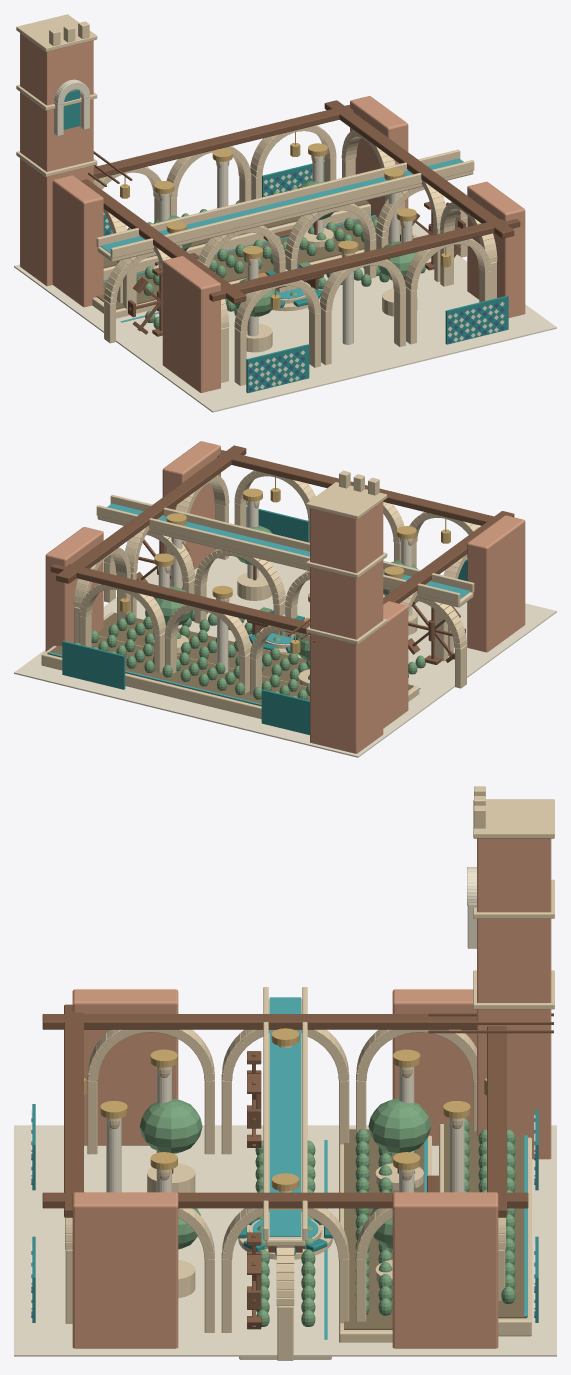
Rendered from living-places.glb.
3 renders of one model, top to bottom at view 1: azimuth 30°, elevation 25°; view 2: azimuth 150°, elevation 25°; view 3: azimuth 270°, elevation 25°, orthographic. The views are drawn at different scales.
Visible parts, largest first — view 1: Riad_Limewashed_ochre, Riad_Ivory_plaster, Riad_Carved_sandstone, Aqueduct_Carved_sandstone, Riad_Carved_cedar, Riad_Glazed_teal_zellij, UnionWorkshop_Ivory_plaster, Terraces_Living_leaves, Terraces_Cultivated_soil, Terraces_Carved_sandstone, UnionWorkshop_Hammered_brass, Aqueduct_Spring_water (+4 smaller); view 2: Riad_Limewashed_ochre, Riad_Carved_sandstone, Riad_Ivory_plaster, Aqueduct_Carved_sandstone, Riad_Carved_cedar, Terraces_Living_leaves, Riad_Glazed_teal_zellij, Terraces_Cultivated_soil, Terraces_Carved_sandstone, UnionWorkshop_Ivory_plaster, Aqueduct_Carved_cedar, UnionWorkshop_Hammered_brass (+4 smaller); view 3: Riad_Limewashed_ochre, Riad_Ivory_plaster, Riad_Carved_sandstone, Riad_Carved_cedar, Terraces_Living_leaves, Terraces_Cultivated_soil, Riad_Living_leaves, Aqueduct_Spring_water, Aqueduct_Carved_sandstone, UnionWorkshop_Ivory_plaster, UnionWorkshop_Hammered_brass, Terraces_Carved_sandstone (+4 smaller).
Boxes of the visible parts, bbox=[...] form: Riad_Limewashed_ochre: bbox=[20, 33, 525, 392]; Riad_Ivory_plaster: bbox=[14, 79, 556, 412]; Riad_Carved_sandstone: bbox=[16, 14, 497, 385]; Aqueduct_Carved_sandstone: bbox=[96, 149, 474, 343]; Riad_Carved_cedar: bbox=[80, 100, 520, 303]; Riad_Glazed_teal_zellij: bbox=[63, 89, 508, 393]; UnionWorkshop_Ivory_plaster: bbox=[158, 156, 412, 344]; Terraces_Living_leaves: bbox=[109, 186, 425, 328]; Terraces_Cultivated_soil: bbox=[96, 200, 413, 309]; Terraces_Carved_sandstone: bbox=[92, 204, 417, 318]; UnionWorkshop_Hammered_brass: bbox=[154, 143, 416, 258]; Aqueduct_Spring_water: bbox=[100, 158, 463, 253]; Riad_Limewashed_ochre: bbox=[45, 441, 525, 753]; Riad_Carved_sandstone: bbox=[73, 470, 479, 695]; Riad_Ivory_plaster: bbox=[14, 556, 556, 757]; Aqueduct_Carved_sandstone: bbox=[96, 494, 474, 688]; Riad_Carved_cedar: bbox=[50, 445, 514, 642]; Terraces_Living_leaves: bbox=[75, 610, 425, 699]; Riad_Glazed_teal_zellij: bbox=[62, 506, 467, 734]; Terraces_Cultivated_soil: bbox=[48, 612, 413, 706]; Terraces_Carved_sandstone: bbox=[41, 612, 419, 718]; UnionWorkshop_Ivory_plaster: bbox=[158, 501, 412, 673]; Aqueduct_Carved_cedar: bbox=[136, 534, 465, 664]; UnionWorkshop_Hammered_brass: bbox=[154, 488, 416, 602]; Riad_Limewashed_ochre: bbox=[72, 838, 551, 1348]; Riad_Ivory_plaster: bbox=[14, 867, 556, 1356]; Riad_Carved_sandstone: bbox=[65, 786, 554, 1332]; Riad_Carved_cedar: bbox=[42, 1004, 553, 1217]; Terraces_Living_leaves: bbox=[255, 1118, 515, 1326]; Terraces_Cultivated_soil: bbox=[344, 1122, 526, 1329]; Riad_Living_leaves: bbox=[139, 1098, 431, 1249]; Aqueduct_Spring_water: bbox=[269, 997, 301, 1236]; Aqueduct_Carved_sandstone: bbox=[263, 987, 307, 1360]; UnionWorkshop_Ivory_plaster: bbox=[106, 1066, 464, 1192]; UnionWorkshop_Hammered_brass: bbox=[100, 1028, 470, 1191]; Terraces_Carved_sandstone: bbox=[239, 1124, 531, 1359].
Size of the model in its own units: 20 by 14 by 19.
